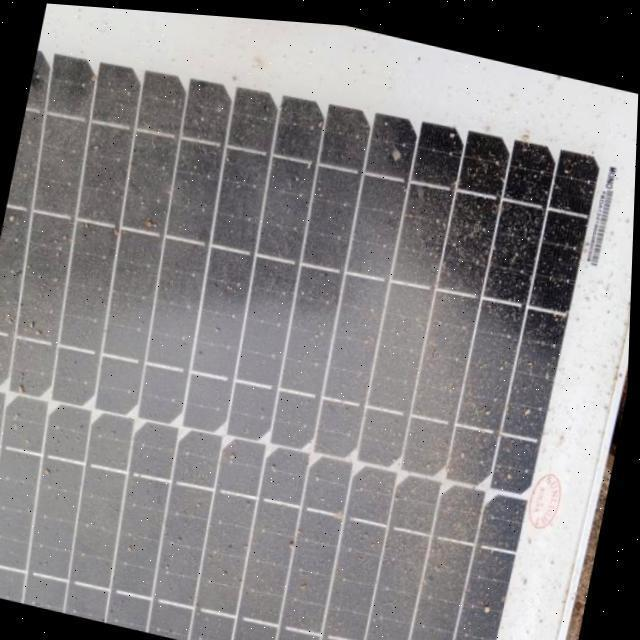Anomaly Solar Panel: (0, 0, 640, 640)
Surface Contaminant: (0, 18, 597, 640)
